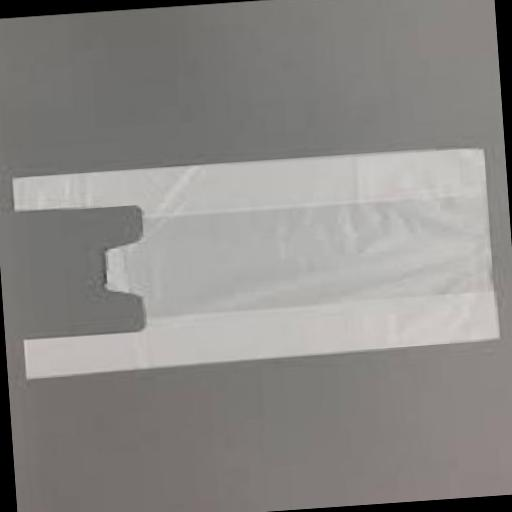plastic: (4, 146, 498, 381)
